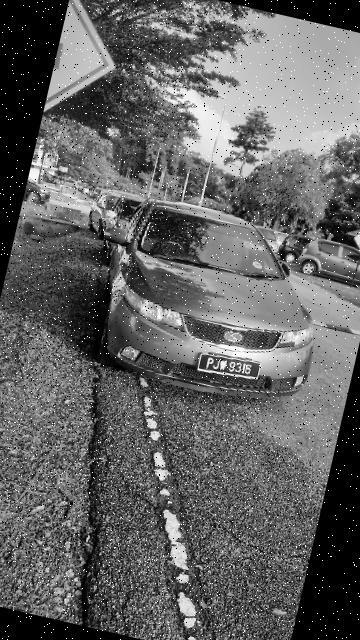License_Plate: (194, 349, 265, 385)
car: (71, 181, 342, 420), (296, 226, 360, 293), (274, 225, 324, 271)
